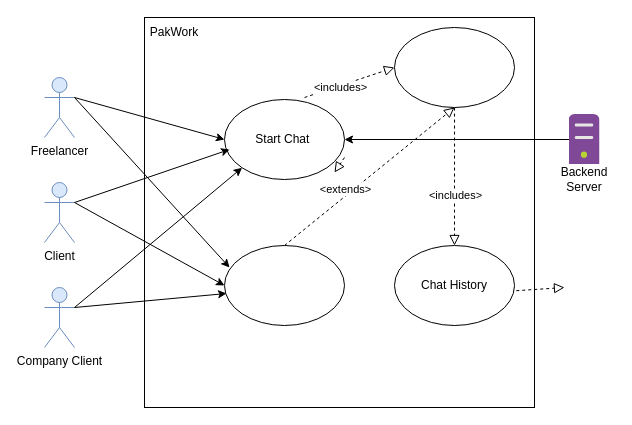
Some shapes in this 632 by 425 pixel diagram are drawn without their labels. The centre of each missing label's shape, as x and y in pixels:
Chat Box: (x=454, y=67)
Send Message: (x=284, y=285)
